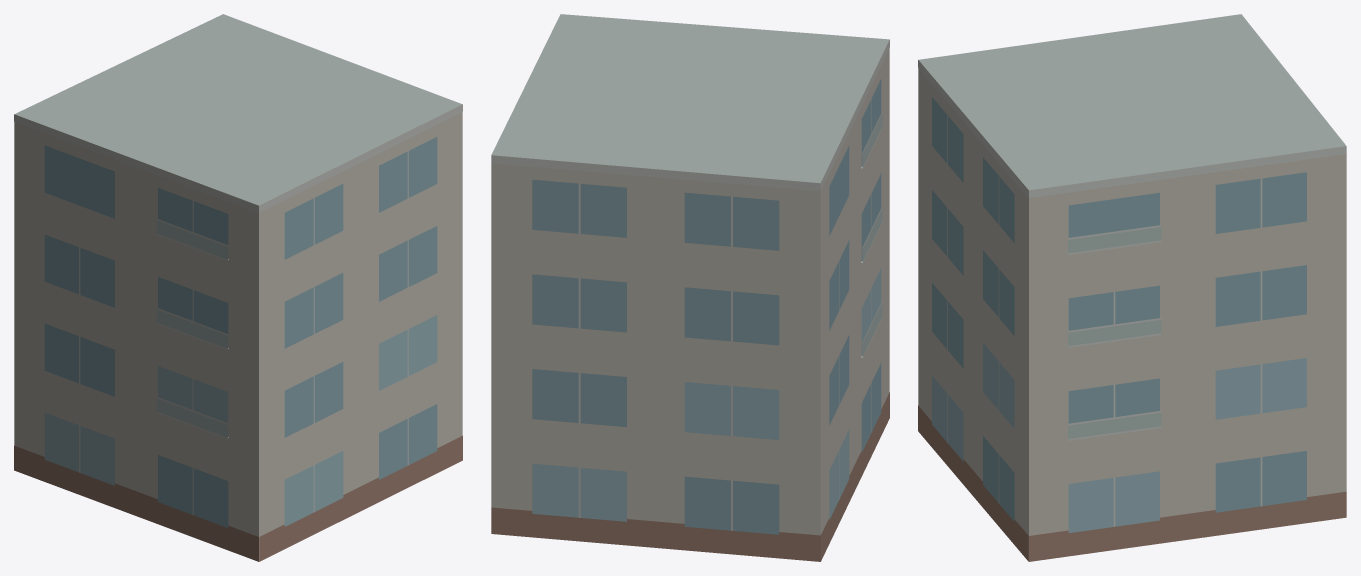
Rendered from survey-upis-32701259.glb.
The picture shows the model from 3 angles, left to right: view 1: azimuth 30°, elevation 25°; view 2: azimuth 150°, elevation 25°; view 3: azimuth 270°, elevation 25°; orthographic projection. The views are drawn at different scales.
Visible parts, largest first — view 1: survey-upis-32701259.tmp; view 2: survey-upis-32701259.tmp; view 3: survey-upis-32701259.tmp.
Part boxes in pixels (bbox=[...]): survey-upis-32701259.tmp: bbox=[14, 14, 462, 561]; survey-upis-32701259.tmp: bbox=[491, 14, 889, 561]; survey-upis-32701259.tmp: bbox=[918, 14, 1346, 561].
Size of the model in its own units: 11.82 by 11.6 by 12.13.
